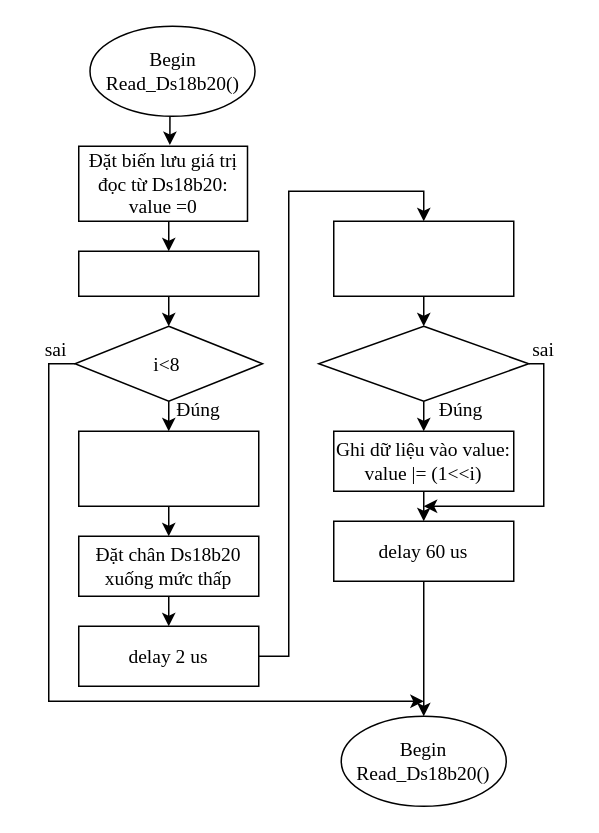
Some shapes in this 599 by 833 pixel diagram are drawn without their labels. Each missing label, with the centre of its shape:
Chân Ds18b20 mức thấp: the point at 423,363
i=0: the point at 168,273
Đặt chân MCU kết nối Ds18b20 chế độ input: the point at 423,258
Đặt chân MCU kết nối Ds18b20 chế độ output: the point at 168,468
